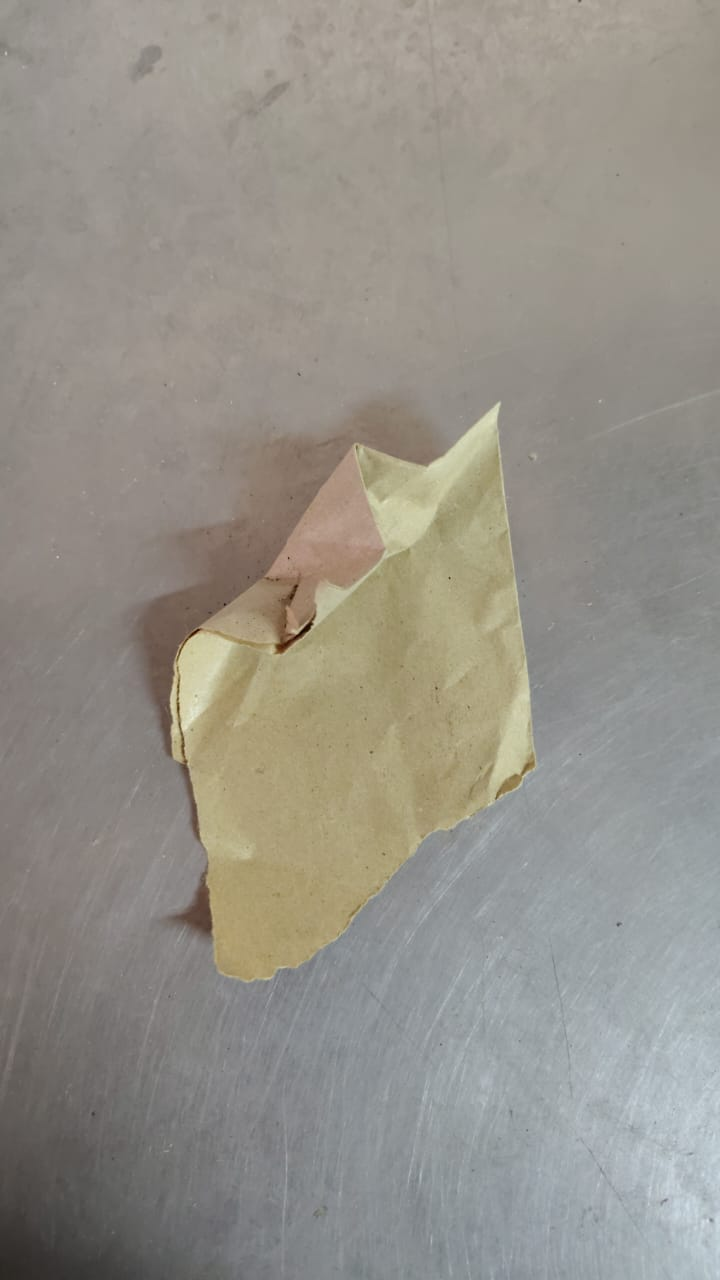Papel: (170, 398, 537, 980)
